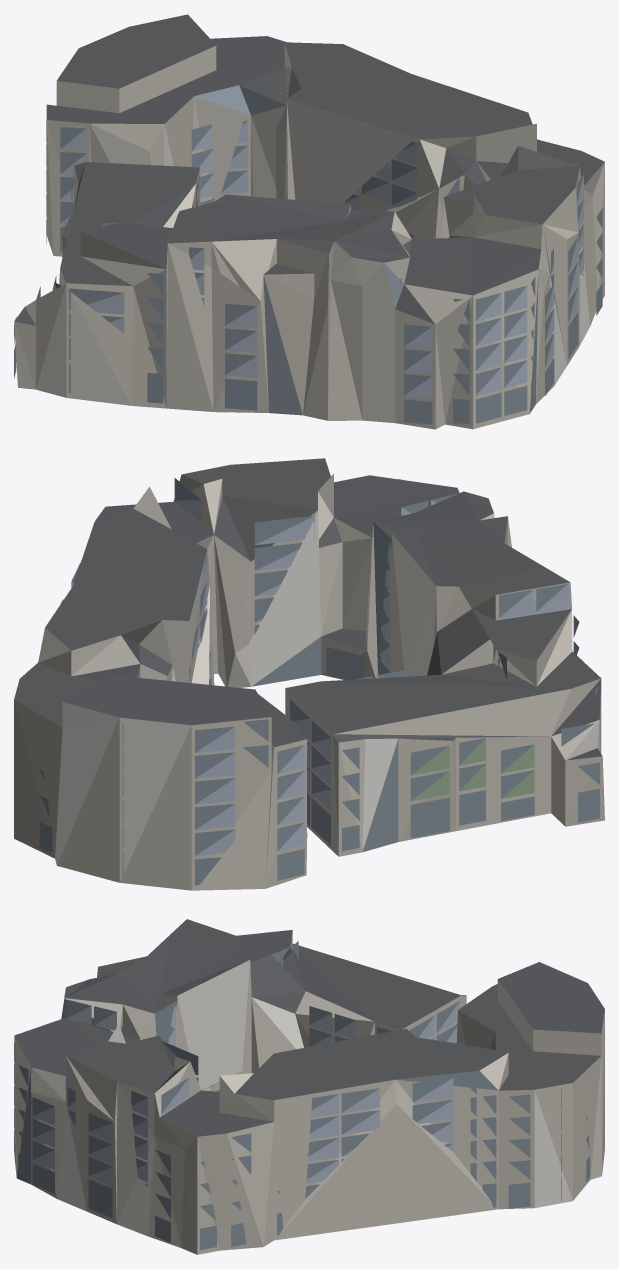
Rendered from pentagon.lod2.glb.
3 views of the same model, one above another, from view 1: azimuth 30°, elevation 25°; view 2: azimuth 150°, elevation 25°; view 3: azimuth 270°, elevation 25° (orthographic). The views are drawn at different scales.
Visible parts, largest first — view 1: lod2; view 2: lod2; view 3: lod2.
Part boxes in pixels (<box>): lod2: <box>14,14,604,429</box>; lod2: <box>14,458,604,890</box>; lod2: <box>14,919,604,1254</box>.
Bounding box in the file's own units: 62.09 × 19.55 × 67.33.
